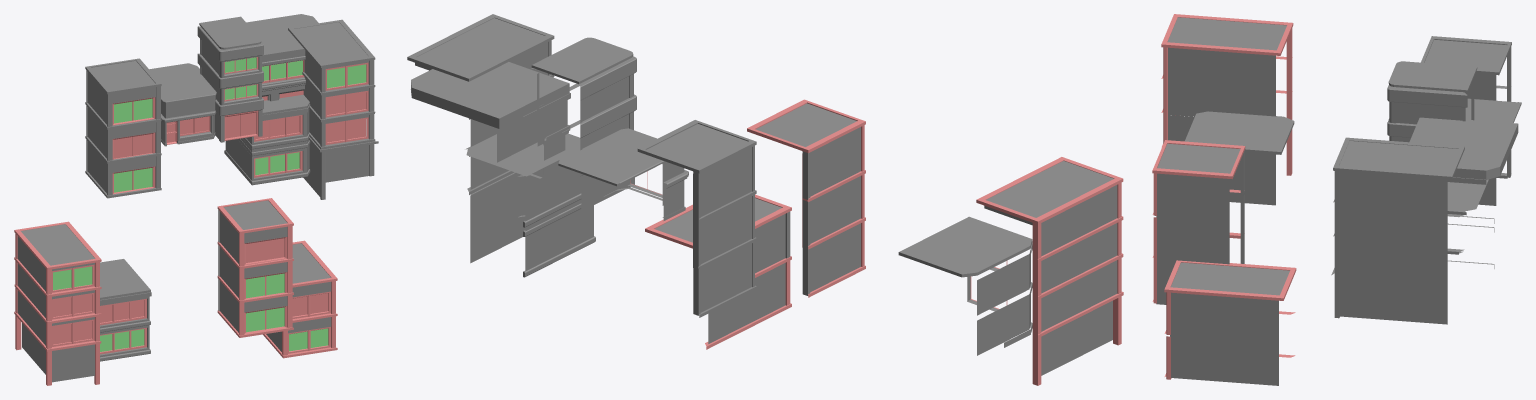
The model's file is S_Envi_Umeda_Building_016c.gltf.
The picture shows the model from 3 angles, left to right: view 1: azimuth 30°, elevation 25°; view 2: azimuth 150°, elevation 25°; view 3: azimuth 270°, elevation 25°; orthographic projection. The views are drawn at different scales.
Parts seen in each view (by area): view 1: S_Envi_Umeda_Building_016c; view 2: S_Envi_Umeda_Building_016c; view 3: S_Envi_Umeda_Building_016c.
Part boxes in pixels (bbox=[...]): S_Envi_Umeda_Building_016c: bbox=[14, 14, 378, 385]; S_Envi_Umeda_Building_016c: bbox=[407, 14, 1123, 385]; S_Envi_Umeda_Building_016c: bbox=[1152, 14, 1521, 385].
Bounding box in the file's own units: 57.75 × 32.7 × 35.99.
